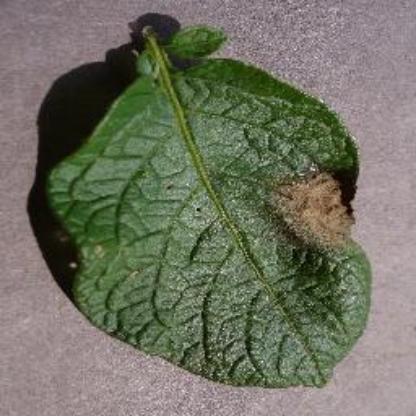Late-Blight: (42, 19, 372, 392)
